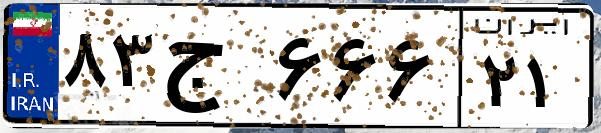1: (525, 38, 570, 115)
2: (475, 38, 525, 113)
3: (110, 28, 158, 98)
6: (270, 28, 330, 110), (385, 28, 445, 110), (330, 28, 385, 110)
8: (57, 26, 110, 100)
ج: (158, 20, 270, 120)
